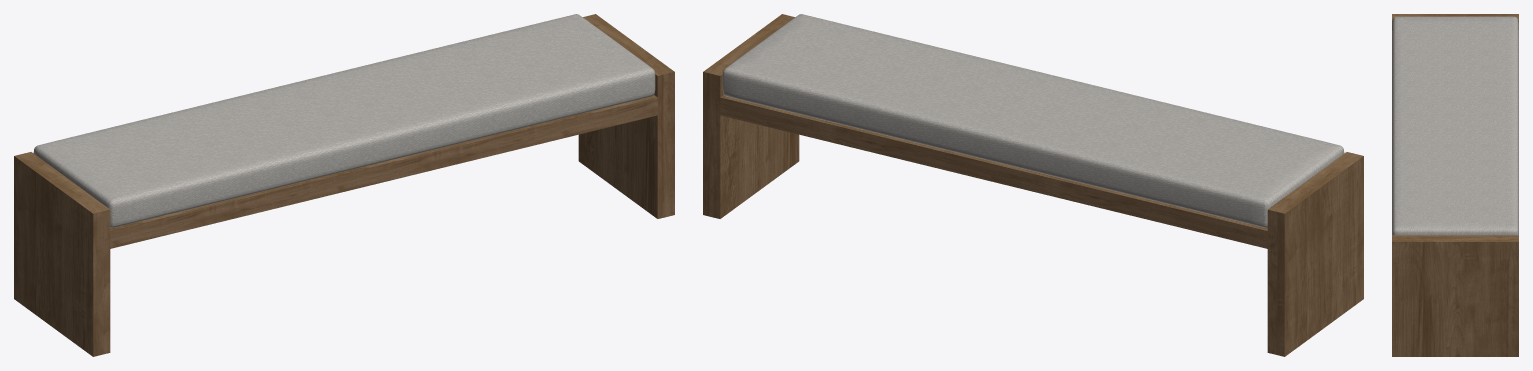
Rendered from A23DMOD_FBX.fbx.
3 renders of one model, left to right at view 1: azimuth 30°, elevation 25°; view 2: azimuth 150°, elevation 25°; view 3: azimuth 270°, elevation 25°, orthographic. The views are drawn at different scales.
Visible parts, largest first — view 1: A23D; view 2: A23D; view 3: A23D.
Part boxes in pixels (x1,y1,x2,y2): A23D: [14, 14, 674, 356]; A23D: [703, 14, 1363, 356]; A23D: [1392, 14, 1518, 356].
Bounding box in the file's own units: 198 × 48.91 × 46.58.
Materials: 2 (2 with a texture image).
